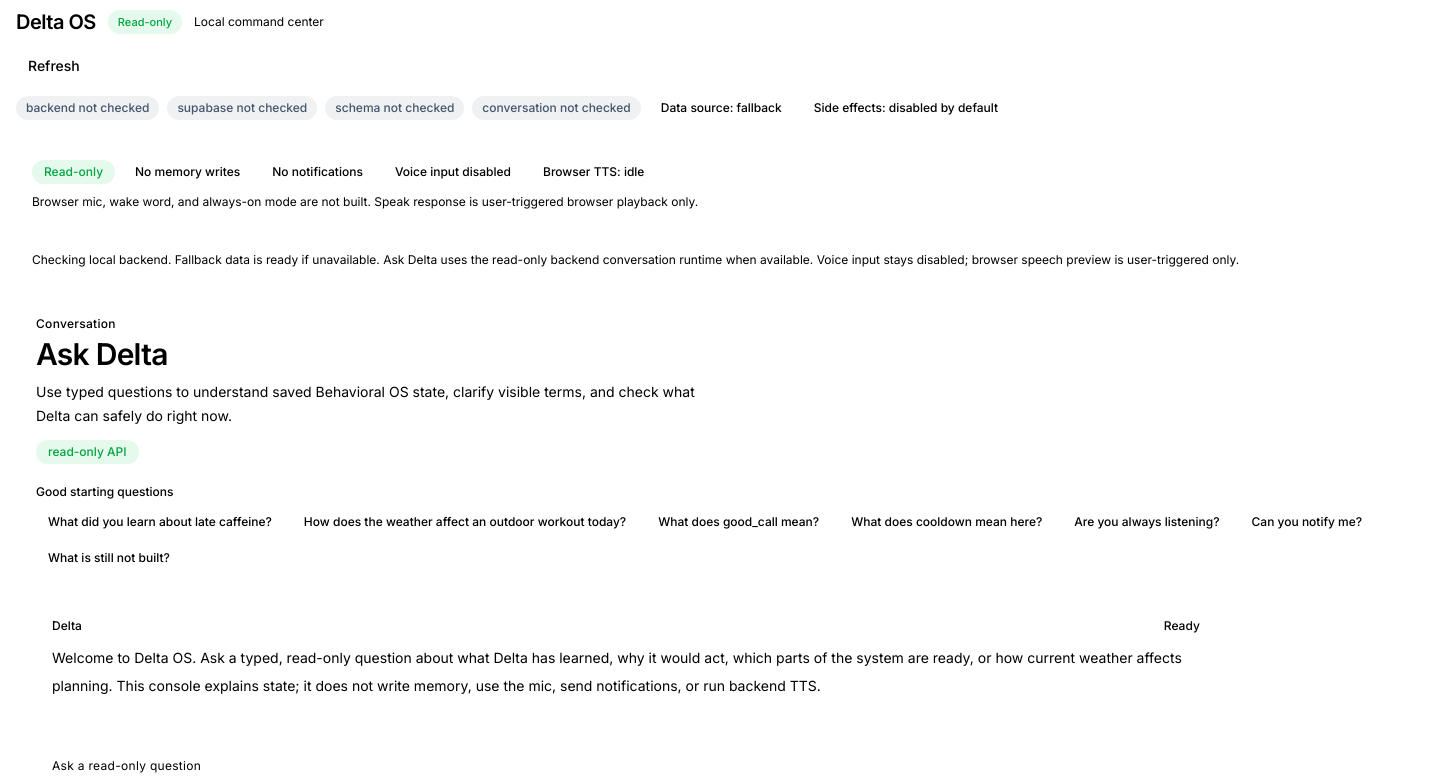
OSConsole command center › lets suggested prompts populate the input
The width and height of the screenshot is (1440, 782).
Click the button "What does cooldown mean here?": click(947, 522) 839,508 -> 1054,536
(page scrolled)
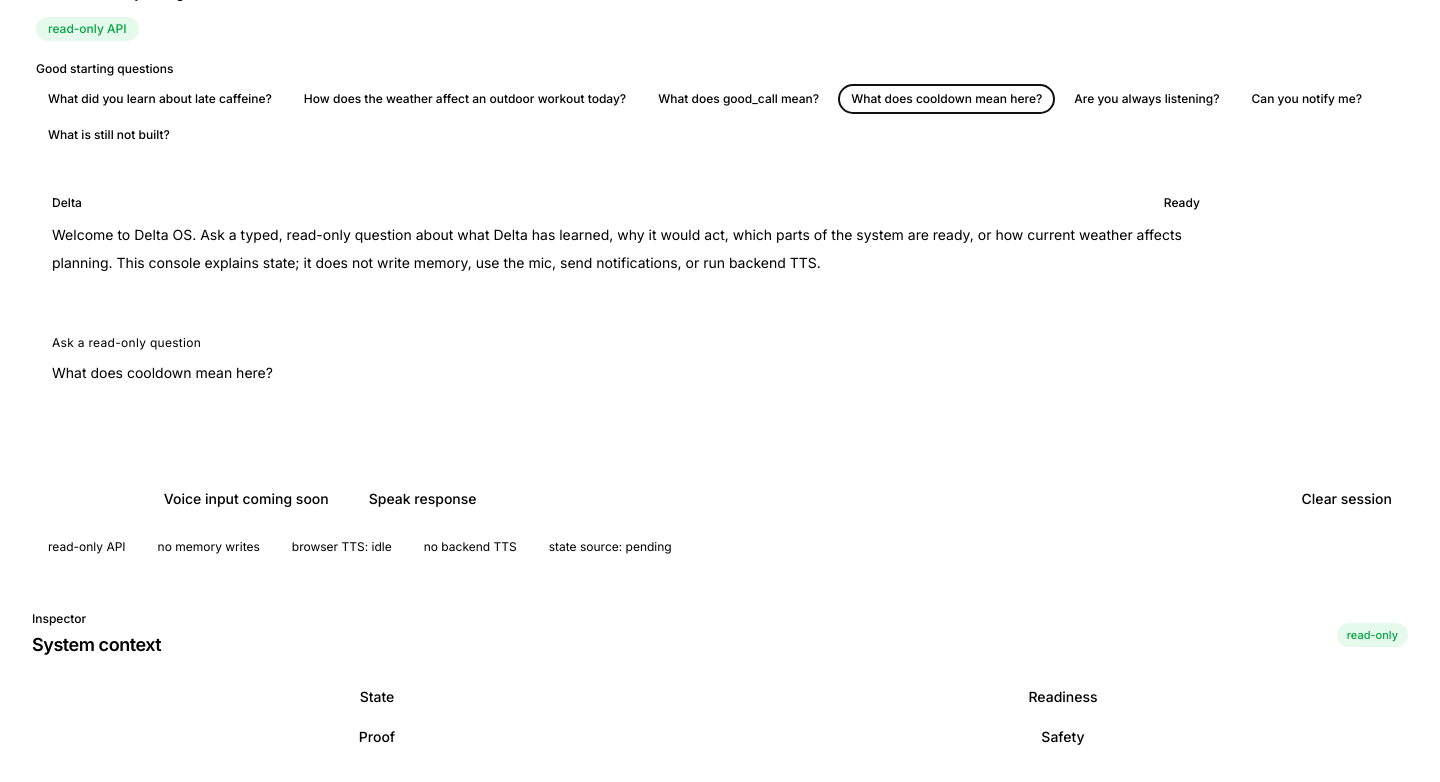
Check: the text box named "Ask Delta prompt" holds "What does cooldown mean here?", box 52,361 -> 1388,441
